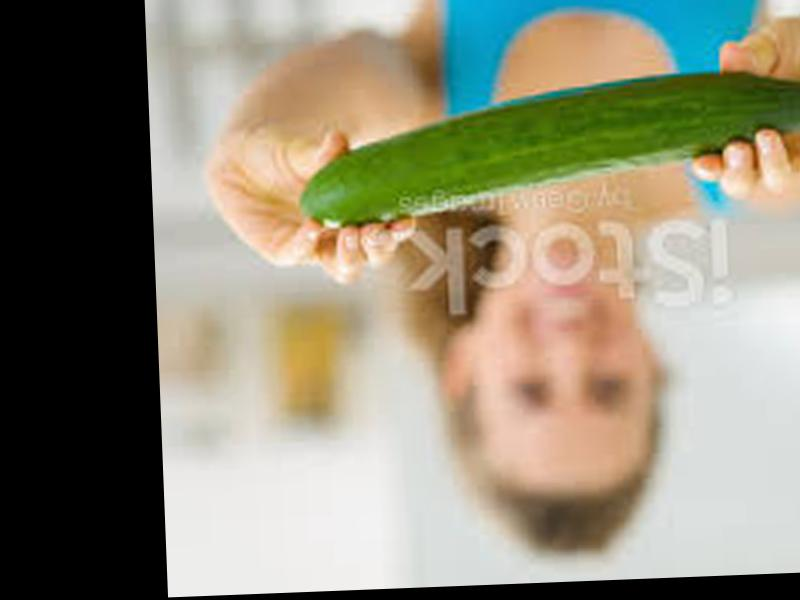Cucumber: (293, 66, 800, 222)
